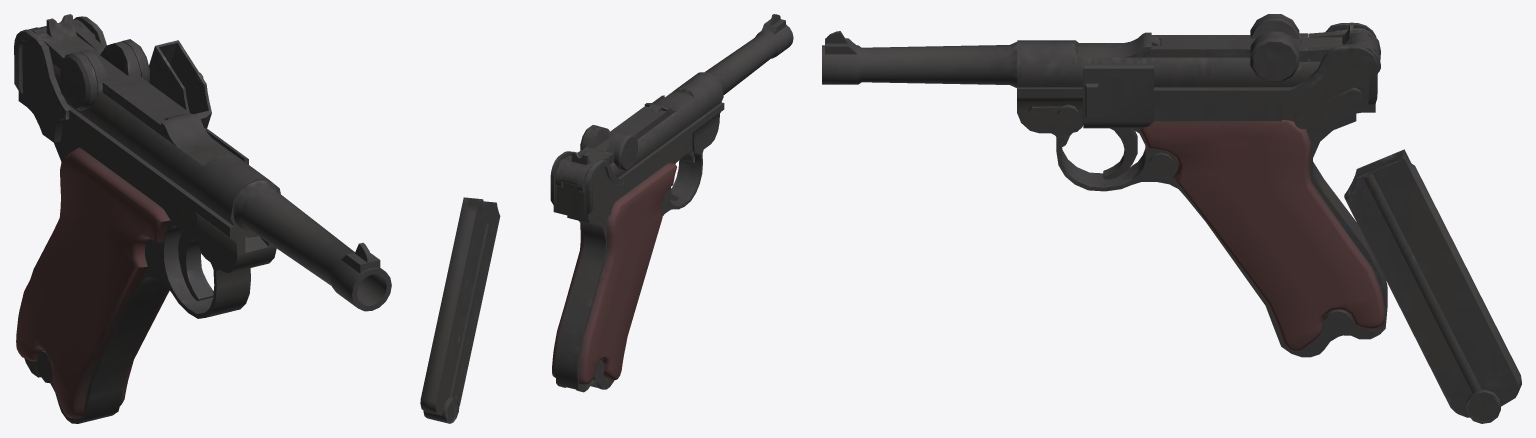
The model's file is g_luger.glb.
3 renders of one model, left to right at view 1: azimuth 30°, elevation 25°; view 2: azimuth 150°, elevation 25°; view 3: azimuth 270°, elevation 25°, orthographic. The views are drawn at different scales.
Visible parts, largest first — view 1: Body, Barrel, Slide, Part3, Clip, Part2, Part1, Trigger; view 2: Body, Clip, Slide, Barrel, Part3, Part2, Part1; view 3: Body, Clip, Barrel, Slide, Part3, Part2, Part1, Trigger.
Boxes of the visible parts, x1=… form: Body: x1=14, y1=16, x2=276, y2=423; Barrel: x1=233, y1=180, x2=391, y2=311; Slide: x1=52, y1=63, x2=280, y2=237; Part3: x1=39, y1=14, x2=149, y2=110; Clip: x1=149, y1=40, x2=211, y2=128; Part2: x1=96, y1=55, x2=190, y2=135; Part1: x1=160, y1=114, x2=233, y2=165; Trigger: x1=178, y1=230, x2=213, y2=300; Body: x1=550, y1=95, x2=724, y2=392; Clip: x1=420, y1=197, x2=500, y2=423; Slide: x1=610, y1=72, x2=723, y2=177; Barrel: x1=705, y1=14, x2=793, y2=95; Part3: x1=561, y1=125, x2=637, y2=185; Part2: x1=594, y1=106, x2=667, y2=151; Part1: x1=644, y1=92, x2=693, y2=116; Body: x1=1017, y1=23, x2=1387, y2=357; Clip: x1=1344, y1=149, x2=1521, y2=423; Barrel: x1=822, y1=31, x2=1017, y2=87; Slide: x1=1017, y1=40, x2=1320, y2=87; Part3: x1=1250, y1=14, x2=1380, y2=82; Part2: x1=1149, y1=35, x2=1301, y2=57; Part1: x1=1077, y1=32, x2=1160, y2=57; Trigger: x1=1061, y1=128, x2=1137, y2=179.
Size of the model in its own units: 0.0772 by 0.1546 by 0.2938.
1 material, 1 textured.
